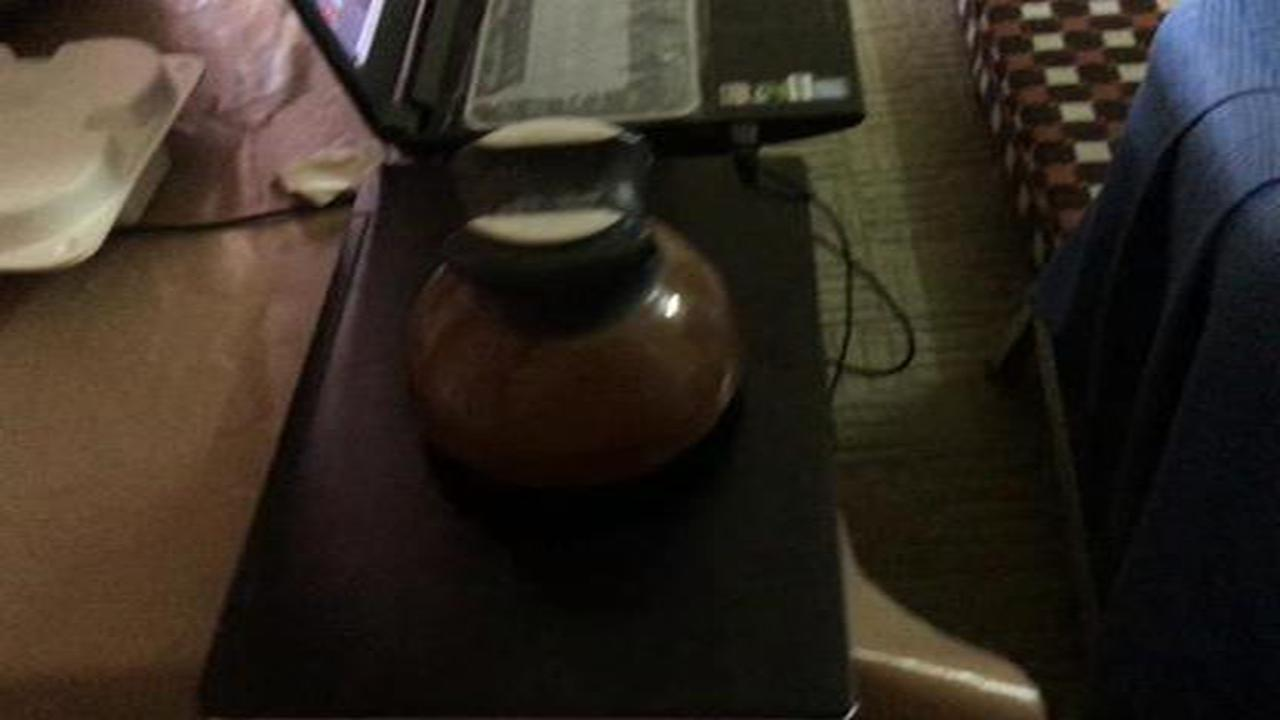insulator_pin: (385, 94, 767, 525)
